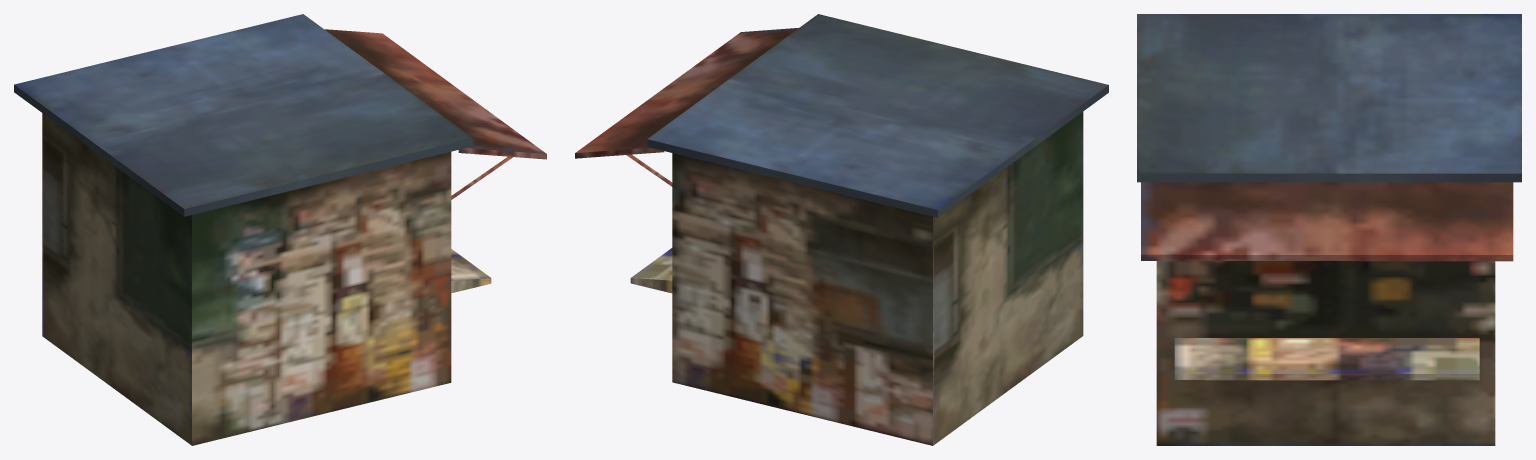
The model's file is Environment - Prop - Stan News Stand - PMnewstnd1.glb.
The picture shows the model from 3 angles, left to right: view 1: azimuth 30°, elevation 25°; view 2: azimuth 150°, elevation 25°; view 3: azimuth 270°, elevation 25°; orthographic projection. The views are drawn at different scales.
Visible parts, largest first — view 1: PMNEWSTND1; view 2: PMNEWSTND1; view 3: PMNEWSTND1.
Part boxes in pixels (bbox=[...]): PMNEWSTND1: bbox=[14, 14, 546, 445]; PMNEWSTND1: bbox=[575, 14, 1108, 445]; PMNEWSTND1: bbox=[1137, 14, 1521, 445].
Bounding box in the file's own units: 42.2 × 27.34 × 34.09.
1 material, 1 textured.
